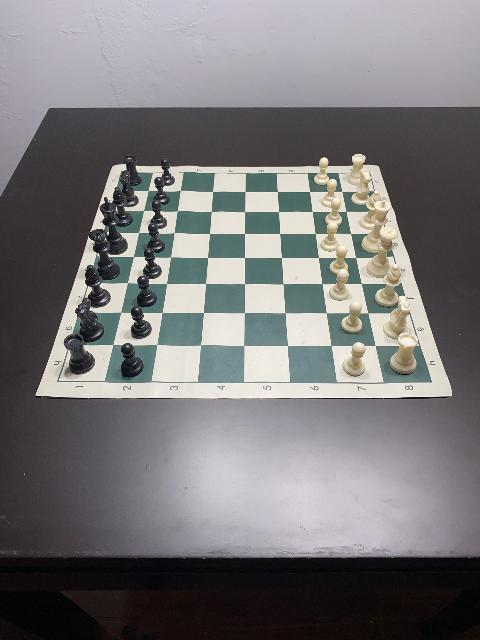black-bishop: (84, 264, 112, 308), (112, 187, 133, 227)
black-king: (100, 197, 128, 255)
black-knight: (74, 298, 104, 342), (120, 170, 139, 208)
black-pawn: (120, 344, 144, 378), (131, 306, 153, 338), (138, 276, 158, 308), (146, 223, 166, 253), (144, 248, 162, 280), (149, 200, 167, 230), (154, 177, 170, 207), (160, 160, 174, 186)
black-queen: (89, 228, 121, 280)
black-rook: (63, 334, 95, 374), (125, 154, 142, 186)
board: (35, 163, 452, 397)
white-bishop: (374, 263, 400, 307), (360, 190, 384, 230)
white-king: (362, 193, 391, 254)
white-knight: (383, 294, 411, 340), (352, 170, 372, 207)
white-pawn: (343, 342, 366, 376), (341, 300, 363, 334), (329, 269, 350, 301), (321, 222, 339, 252), (330, 244, 348, 274), (321, 179, 337, 207), (326, 198, 342, 226), (314, 158, 330, 184)
white-queen: (367, 226, 397, 278)
white-rook: (390, 332, 418, 376), (348, 154, 366, 184)
